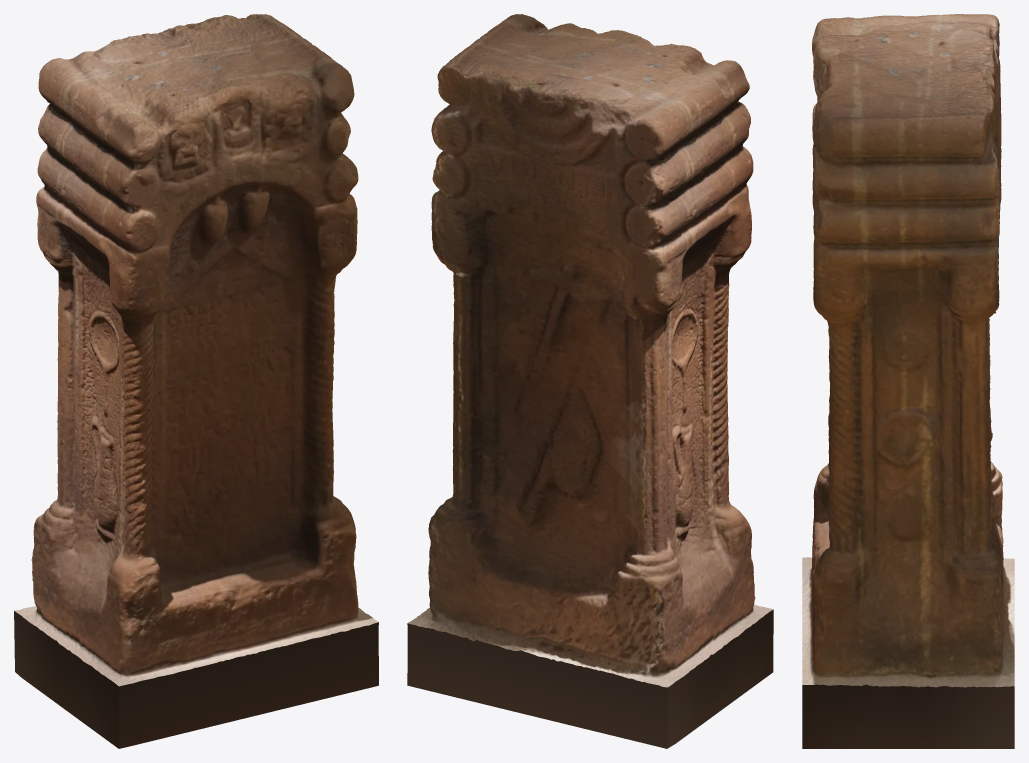
The model's file is preview.glb.
3 views of the same model, side by side, from view 1: azimuth 30°, elevation 25°; view 2: azimuth 150°, elevation 25°; view 3: azimuth 270°, elevation 25° (orthographic).
Parts seen in each view (by area): view 1: Object_2; view 2: Object_2; view 3: Object_2.
Part boxes in pixels (x1=…): Object_2: x1=14, y1=14, x2=378, y2=748; Object_2: x1=407, y1=14, x2=773, y2=748; Object_2: x1=802, y1=14, x2=1014, y2=748.
Size of the model in its own units: 3.96 by 9.03 by 2.77.
Materials: 1 (1 with a texture image).
